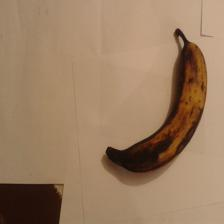Banana Rotten: (155, 22, 220, 172), (83, 128, 224, 186)
